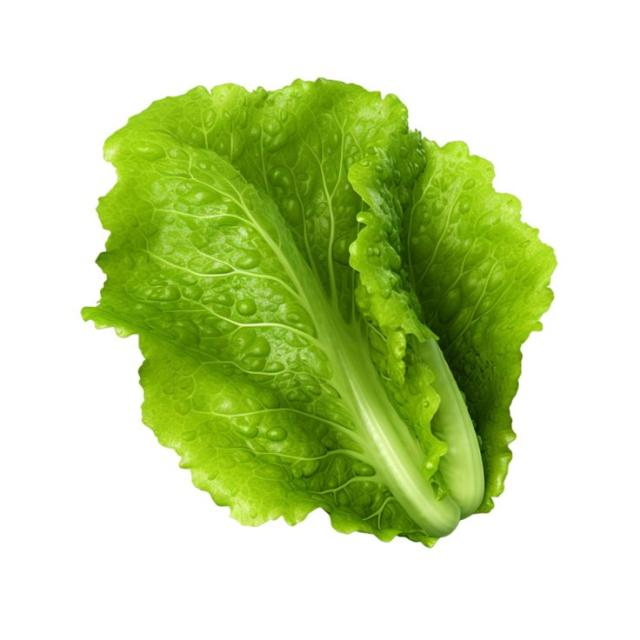lettuce: (84, 80, 554, 544)
